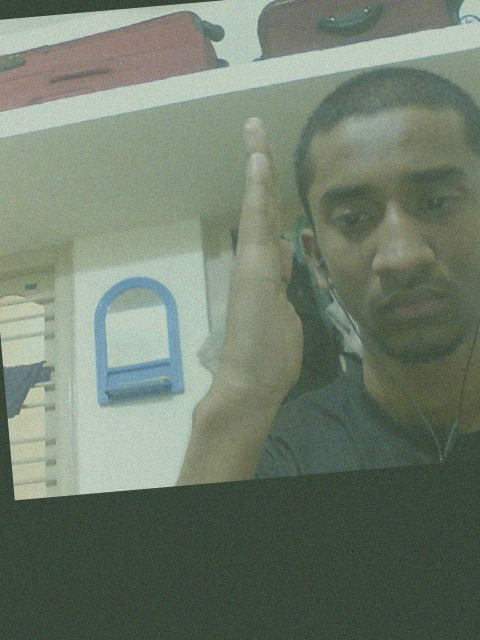hand: (219, 107, 306, 398)
